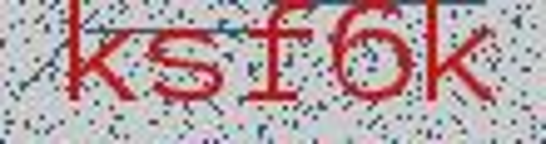6: (325, 2, 420, 112)
f: (241, 1, 322, 109)
k: (59, 1, 140, 113), (422, 2, 500, 115)
s: (144, 19, 229, 115)
